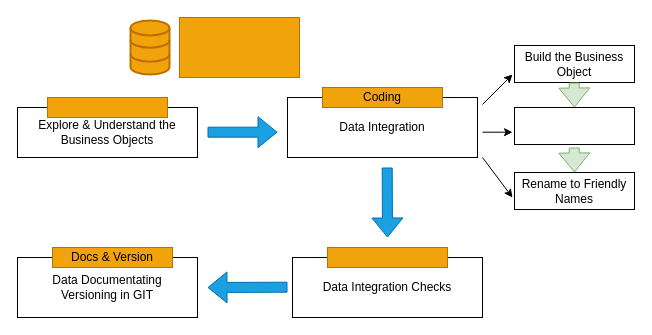
Image size: 652x335. Some labels were removed from this diagram. The centre of each missing label's shape, as x and y in pixels:
Analyzing: the point at 107,107
Choose Type Dimension vs Fact: the point at 574,125
Gold Layer: the point at 239,47
Validating: the point at 387,257
